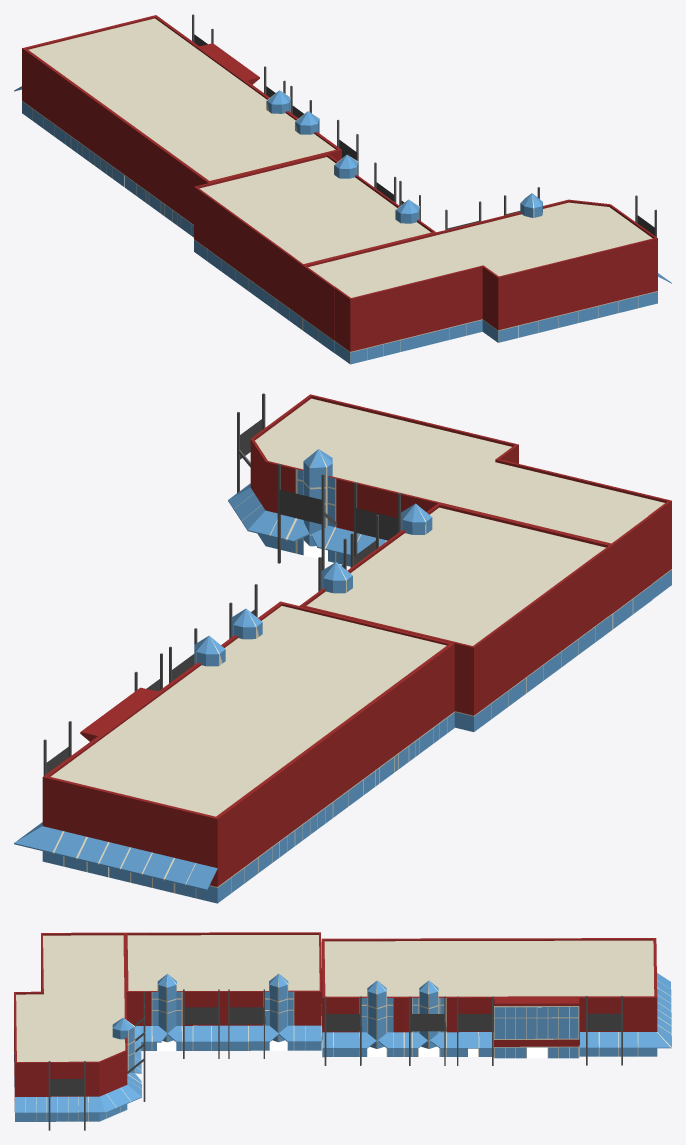
File: sanders_WBv2.glb
The picture shows the model from 3 angles, top to bottom: view 1: azimuth 30°, elevation 25°; view 2: azimuth 150°, elevation 25°; view 3: azimuth 270°, elevation 25°; orthographic projection. The views are drawn at different scales.
Parts seen in each view (by area): view 1: 279815744, 279816180; view 2: 279815744, 279816180; view 3: 279815744, 279816180.
Boxes of the visible parts, box(x1,y1,x2,y2) form: 279815744: box(192, 14, 671, 364); 279816180: box(14, 15, 341, 237); 279815744: box(43, 393, 671, 775); 279816180: box(14, 601, 454, 903); 279815744: box(14, 932, 623, 1130); 279816180: box(321, 938, 671, 1058).
Size of the model in its own units: 261 by 66.72 by 525.
